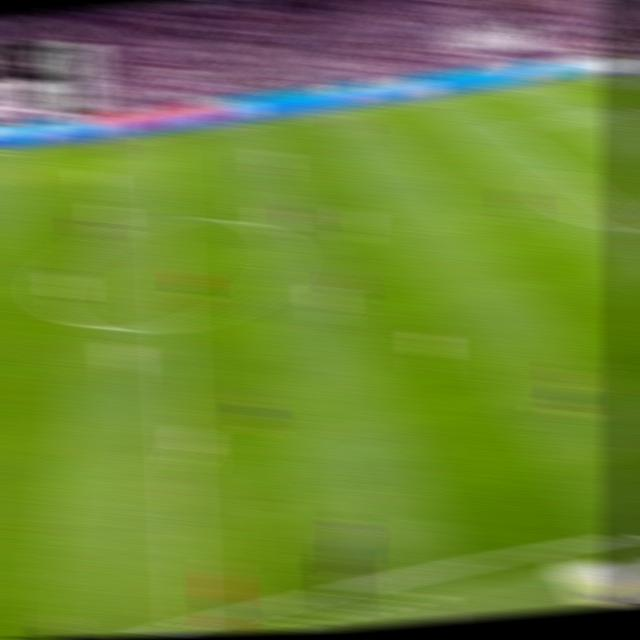bigarea_top_inner: (496, 121, 521, 136)
corner: (581, 69, 608, 80)
halfcircle_bottom: (159, 310, 189, 339)
halfcircle_top: (152, 207, 184, 234)
midline_bottom_intersection: (170, 607, 205, 635)
midline_top_intersection: (151, 128, 176, 143)
top_arc_area_intersection: (549, 160, 576, 177)
